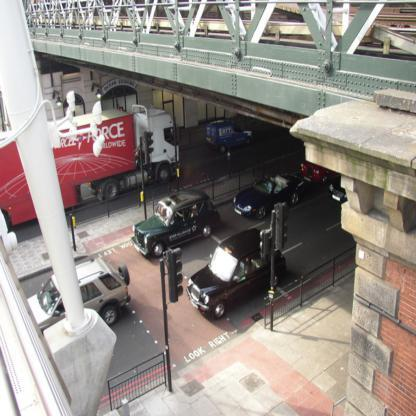car: (184, 224, 286, 318), (26, 257, 132, 327), (130, 195, 223, 264), (229, 168, 304, 220), (206, 118, 254, 152), (301, 158, 337, 184), (326, 178, 348, 202)
